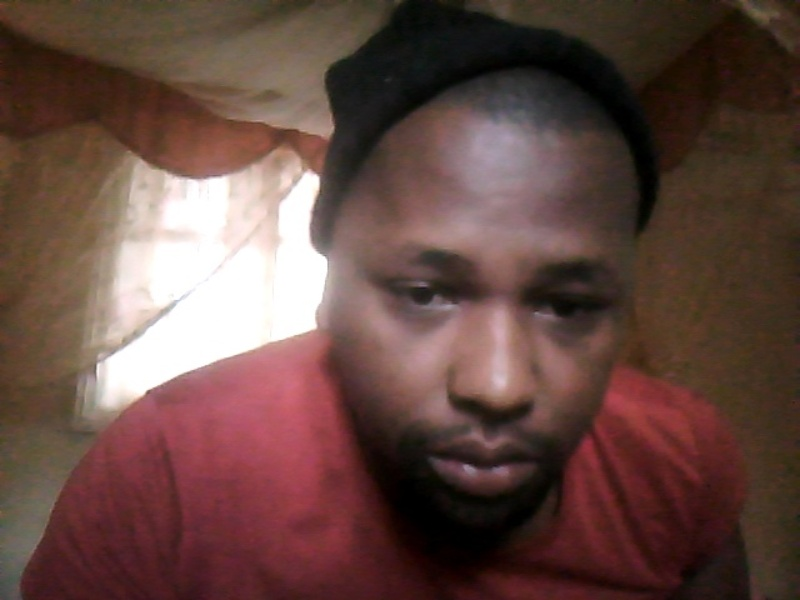TsisyArotava: (312, 25, 676, 560)
